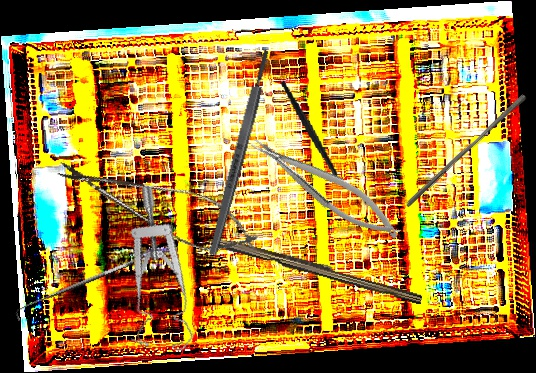Chopper: (278, 72, 355, 200)
Hook Surgical: (12, 258, 139, 322)
Micro Scissor: (45, 144, 271, 269)
Needle Holder: (245, 122, 407, 252)
Pusher: (404, 89, 528, 213)
Scalpel Handle: (211, 233, 425, 305), (205, 48, 274, 257)
Speculum: (99, 184, 230, 359)
